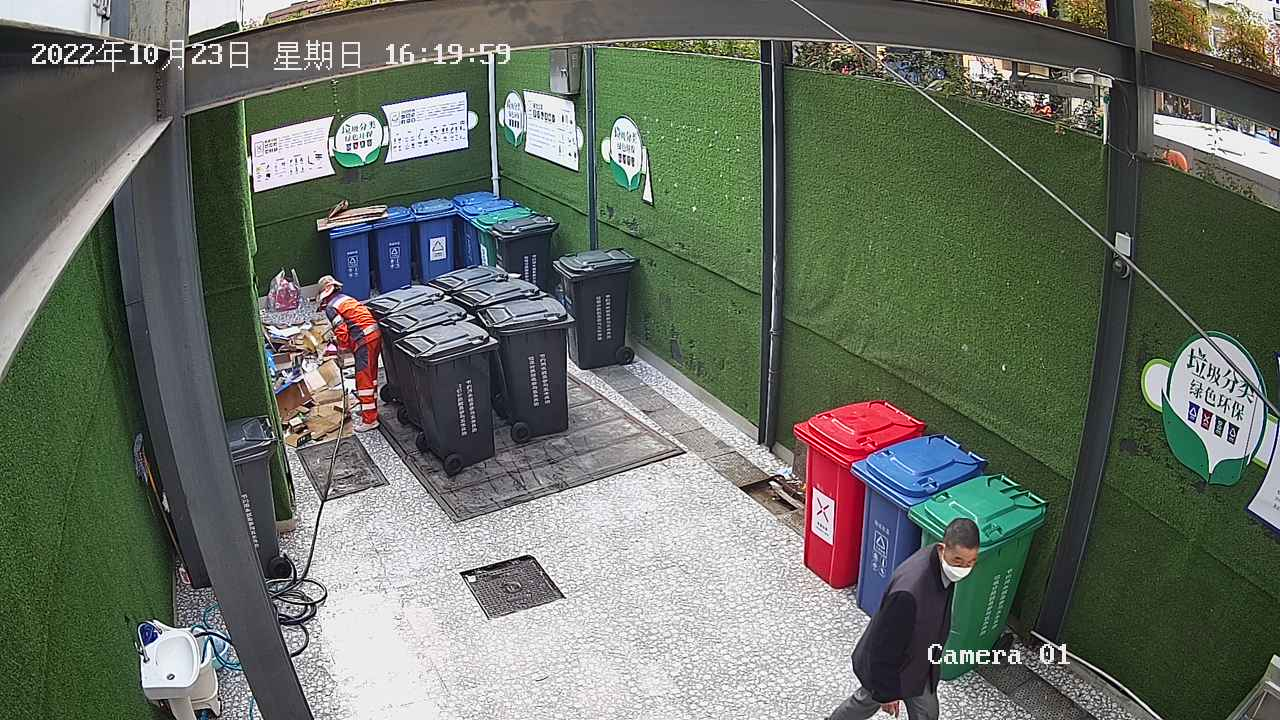person: (817, 511, 988, 720)
worker: (310, 269, 386, 436)
